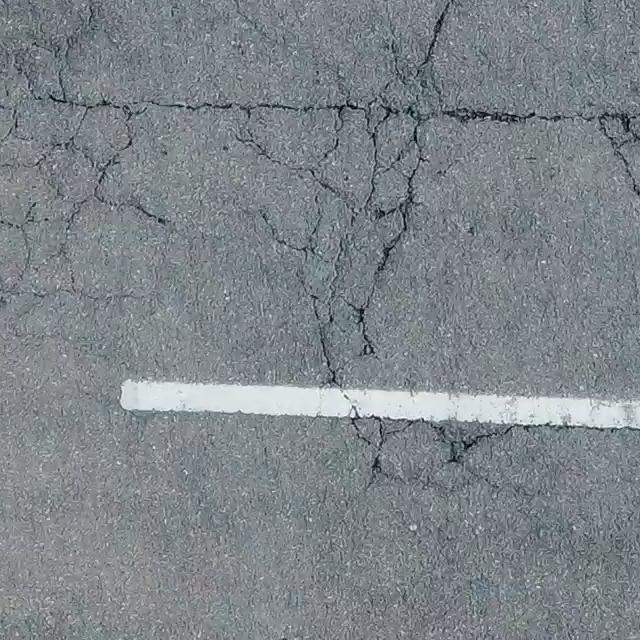GRIETA: (599, 119, 639, 199), (477, 423, 639, 441), (457, 107, 639, 122), (429, 0, 456, 51)
PIEL DE COCODRILO: (0, 2, 487, 496)
